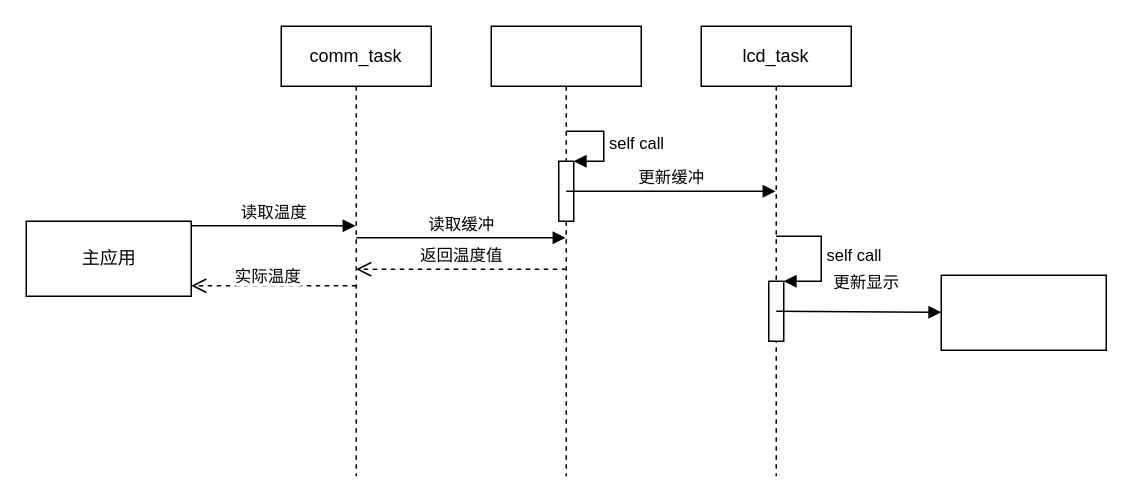
Some shapes in this 1133 by 503 pixel diagram are drawn without their labels. Each missing label, with the centre of its shape:
sample_task: the point at 565,250
串口屏: the point at 1023,312
